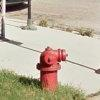Hydrant: (27, 38, 75, 94)
